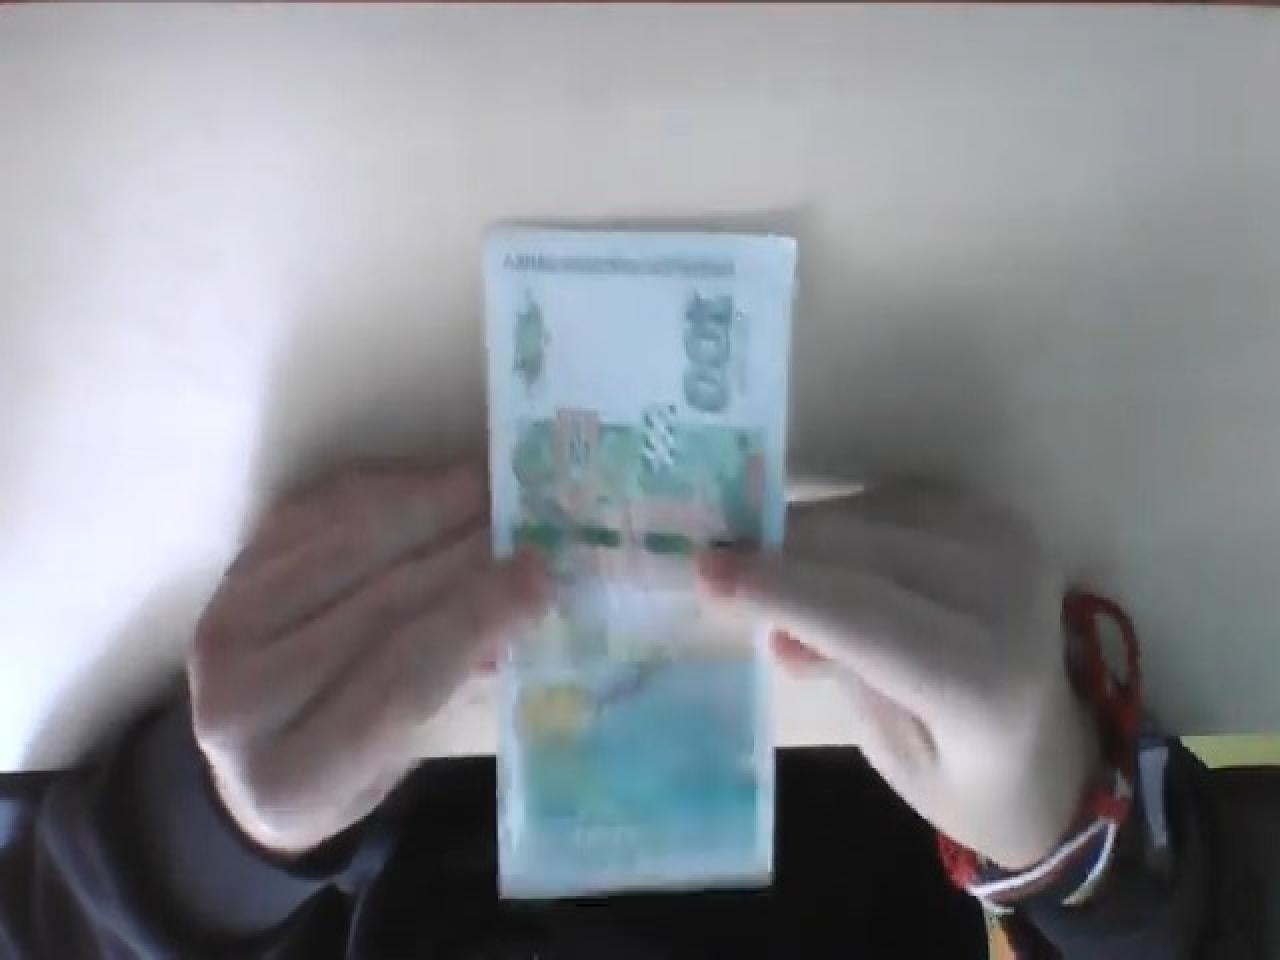100leva: (478, 227, 798, 907)
